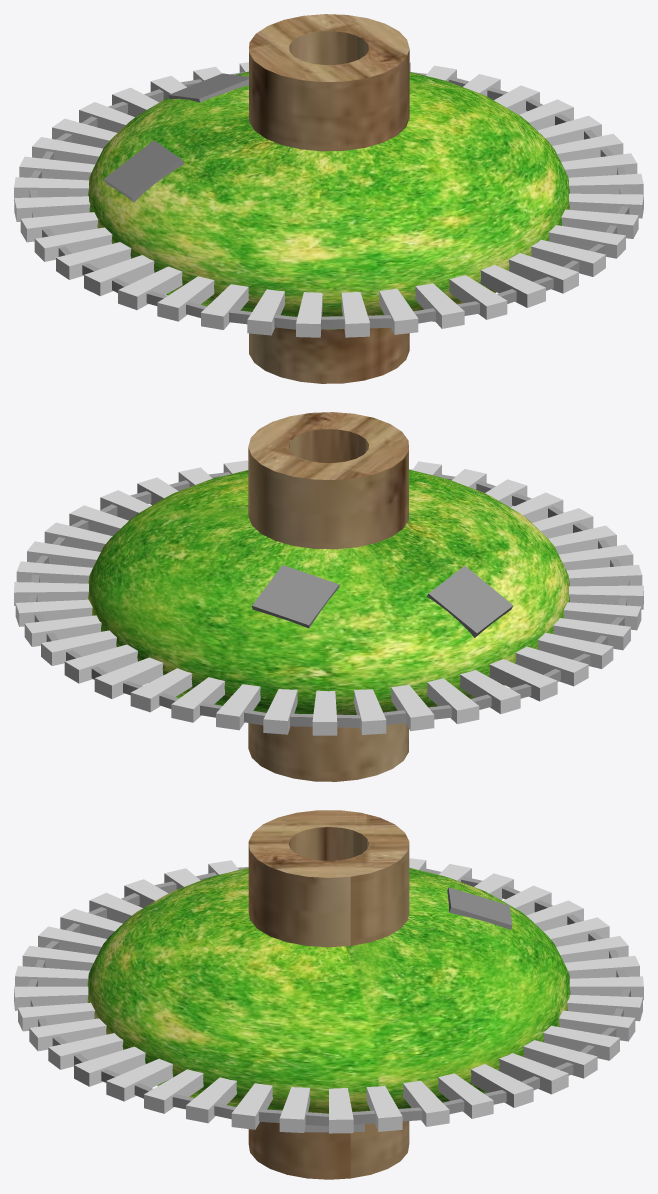
The model's file is first_Stage1.fbx.
The picture shows the model from 3 angles, top to bottom: view 1: azimuth 30°, elevation 25°; view 2: azimuth 150°, elevation 25°; view 3: azimuth 270°, elevation 25°; orthographic projection.
Visible parts, largest first — view 1: pPipe3; view 2: pPipe3; view 3: pPipe3.
Part boxes in pixels (x1,y1,x2,y2): pPipe3: (14,14,643,383); pPipe3: (14,412,643,781); pPipe3: (14,810,643,1179).
Size of the model in its own units: 78.12 by 41.28 by 78.12.
